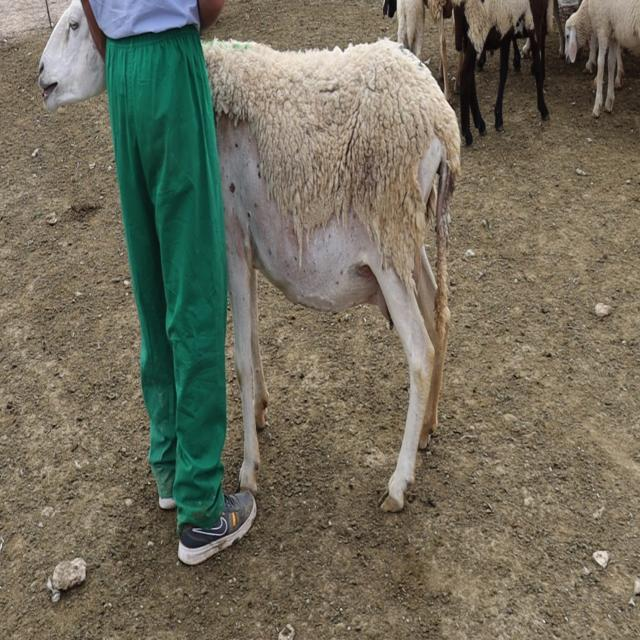Score_2: (202, 39, 461, 511)
